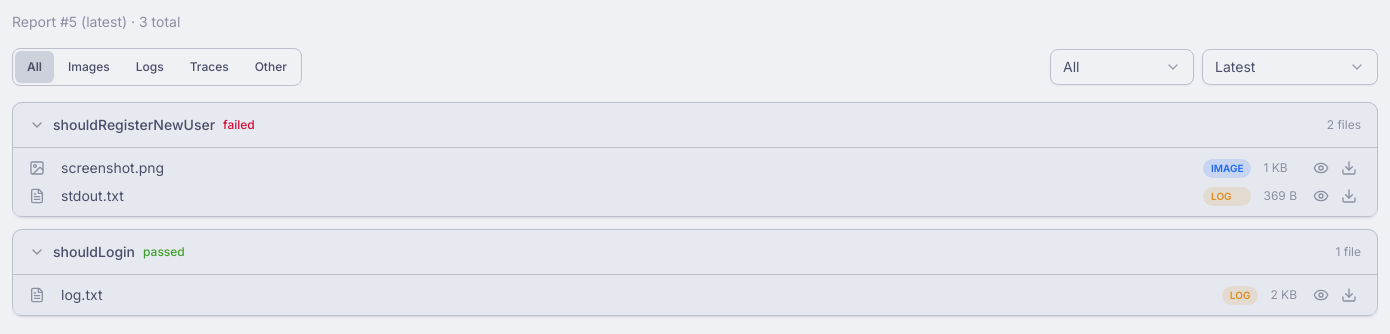
Test: AttachmentsTab › collapses and expands groups on click
Expected: the button "screenshot.png" is shown, 61,158 -> 1191,178
Click the text "shouldRegisterNewUser" at (134,125), box 53,115 -> 215,135
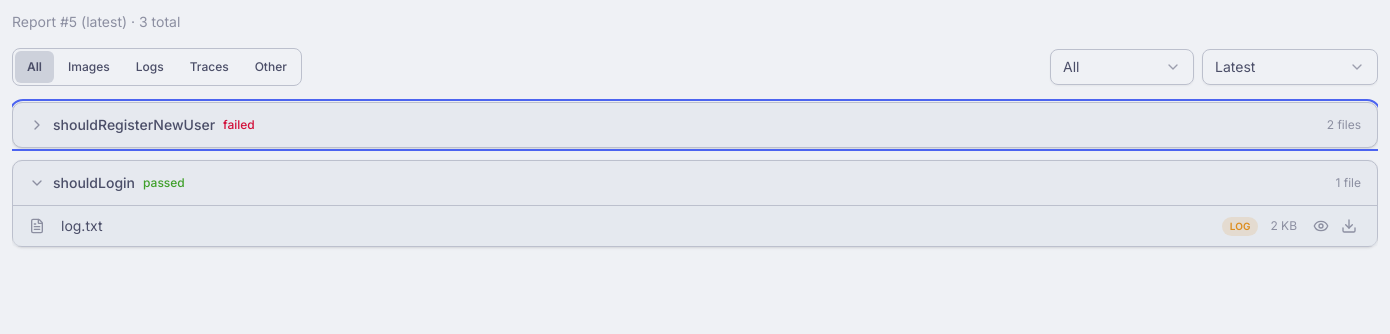
Result: the button "screenshot.png" is gone
Click the text "shouldRegisterNewUser" at (134,125), box 53,115 -> 215,135
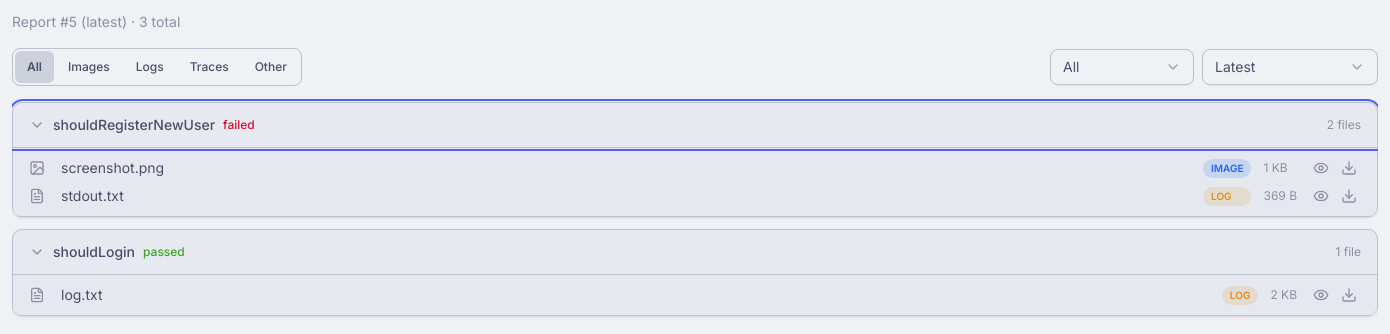
Result: the button "screenshot.png" is shown at 61,158 -> 1191,178
